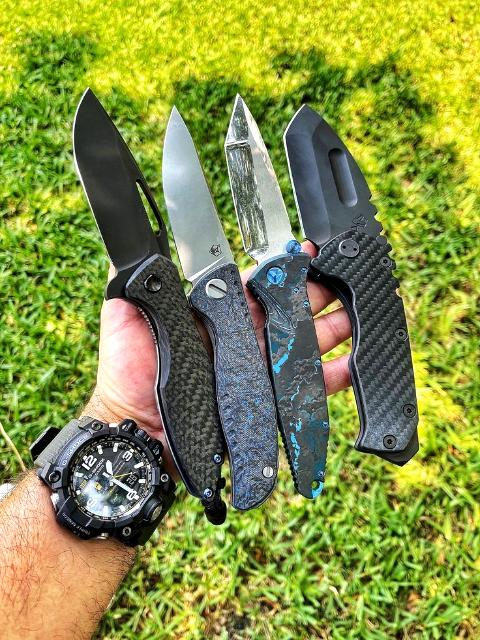pocket-knife: (66, 84, 234, 508), (156, 82, 284, 522), (286, 92, 426, 474), (219, 85, 331, 505)
